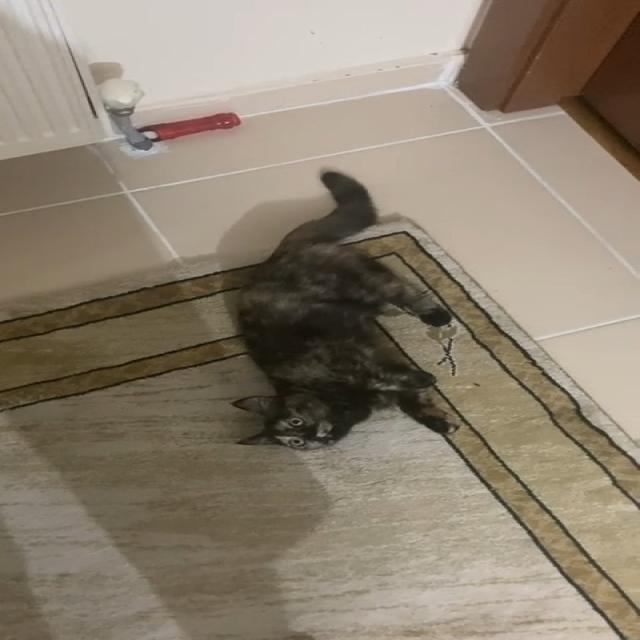authorized: (228, 169, 460, 451)
